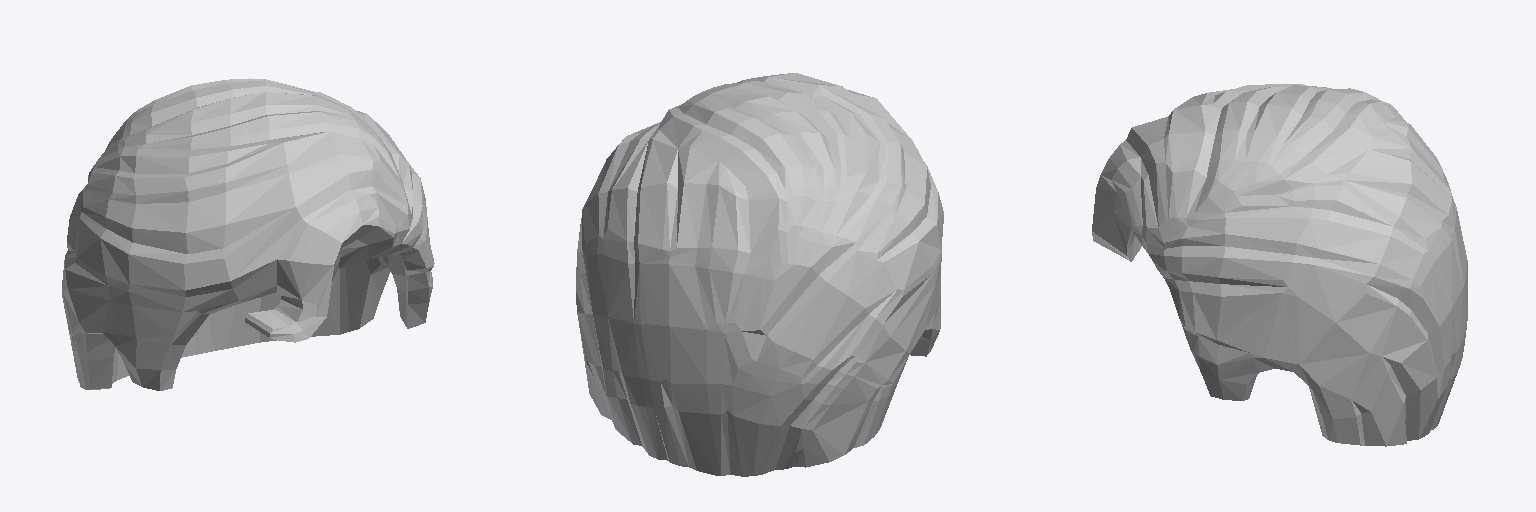
Rendered from hair mesh.obj.
3 views of the same model, side by side, from view 1: azimuth 30°, elevation 25°; view 2: azimuth 150°, elevation 25°; view 3: azimuth 270°, elevation 25° (orthographic).
Visible parts, largest first — view 1: Part.1; view 2: Part.1; view 3: Part.1.
Boxes of the visible parts, <box> form: Part.1: <box>62,78,434,390</box>; Part.1: <box>576,73,943,476</box>; Part.1: <box>1092,84,1467,446</box>.
Size of the model in its own units: 12.62 by 11.88 by 13.03.